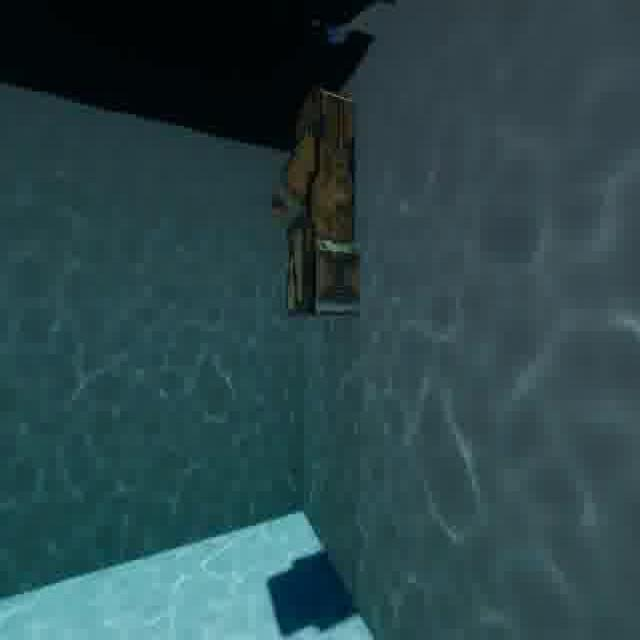Control Panel: (262, 86, 374, 335)
